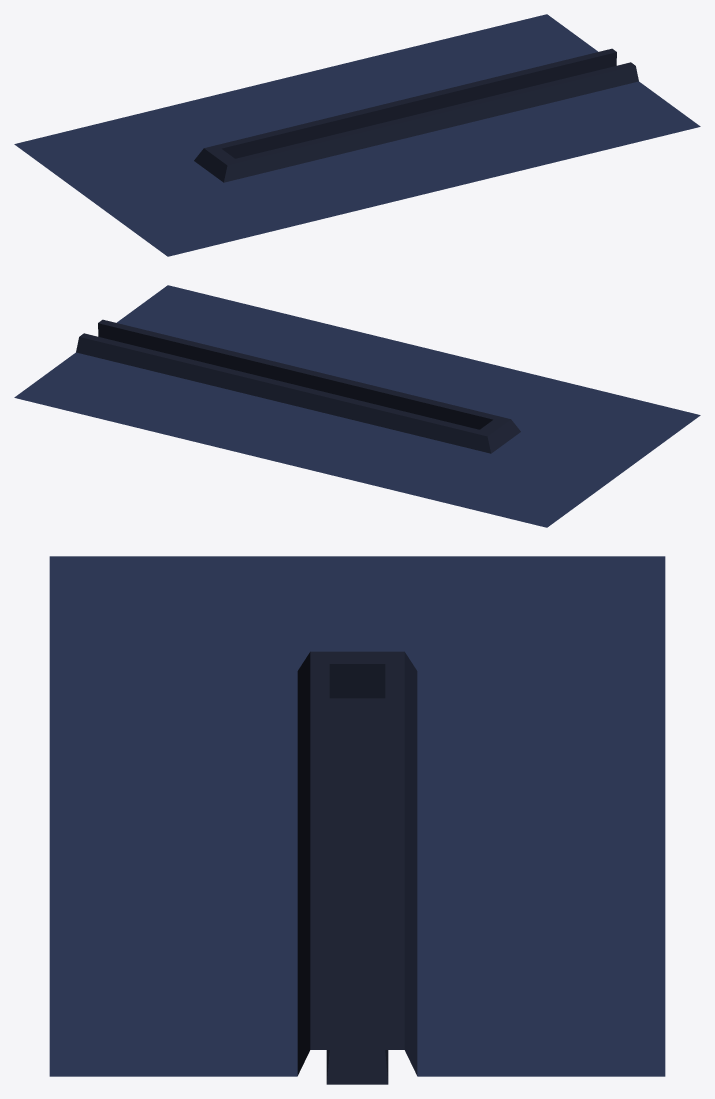
The model's file is sawfloor.obj.
The picture shows the model from 3 angles, top to bottom: view 1: azimuth 30°, elevation 25°; view 2: azimuth 150°, elevation 25°; view 3: azimuth 270°, elevation 25°; orthographic projection. The views are drawn at different scales.
Visible parts, largest first — view 1: saw_blade_floor_corner, saw_blade_floor; view 2: saw_blade_floor_corner, saw_blade_floor; view 3: saw_blade_floor, saw_blade_floor_corner.
Boxes of the visible parts, x1,y1,x2,y2 form: saw_blade_floor_corner: (14, 79, 433, 256); saw_blade_floor: (281, 14, 700, 191); saw_blade_floor_corner: (281, 350, 700, 527); saw_blade_floor: (14, 285, 433, 462); saw_blade_floor: (49, 790, 665, 1084); saw_blade_floor_corner: (49, 556, 665, 824).
Size of the model in its own units: 4.21 by 0.1305 by 2.11.
